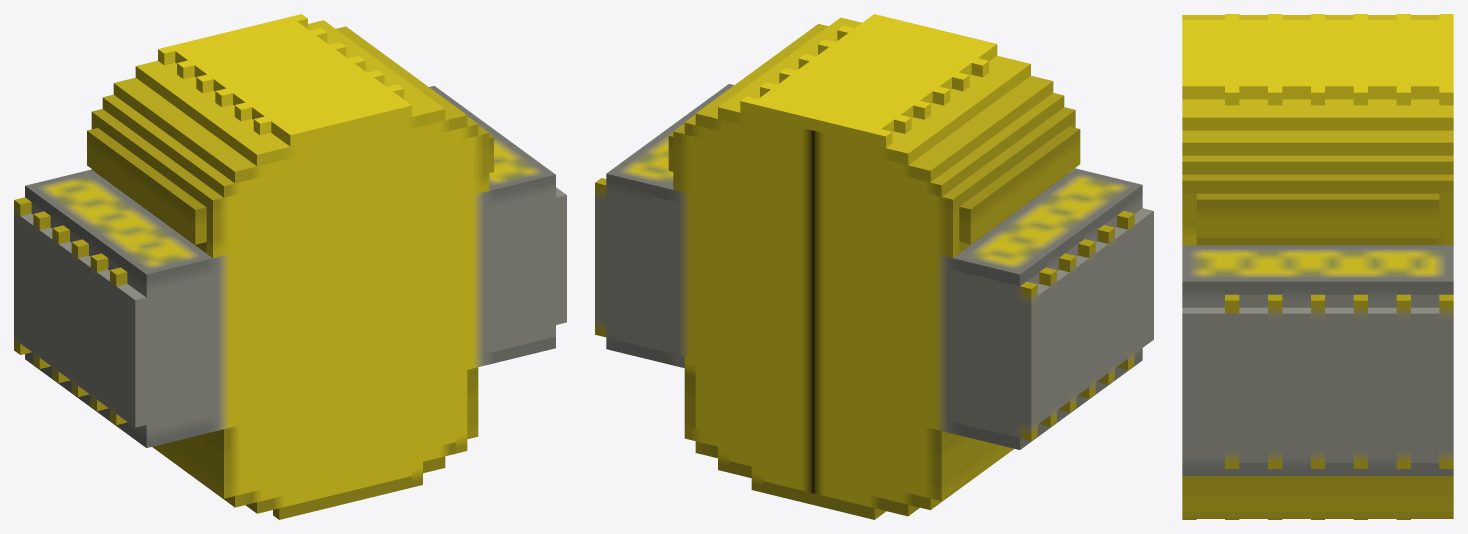
Rendered from Matrix_11.dae.
3 renders of one model, left to right at view 1: azimuth 30°, elevation 25°; view 2: azimuth 150°, elevation 25°; view 3: azimuth 270°, elevation 25°, orthographic. The views are drawn at different scales.
Parts seen in each view (by area): view 1: Matrix_11; view 2: Matrix_11; view 3: Matrix_11.
Boxes of the visible parts, box(x1,y1,x2,y2) form: Matrix_11: box(14, 14, 566, 519); Matrix_11: box(595, 14, 1153, 519); Matrix_11: box(1182, 14, 1453, 519).
Bounding box in the file's own units: 39 × 33 × 19.
1 material, 1 textured.
